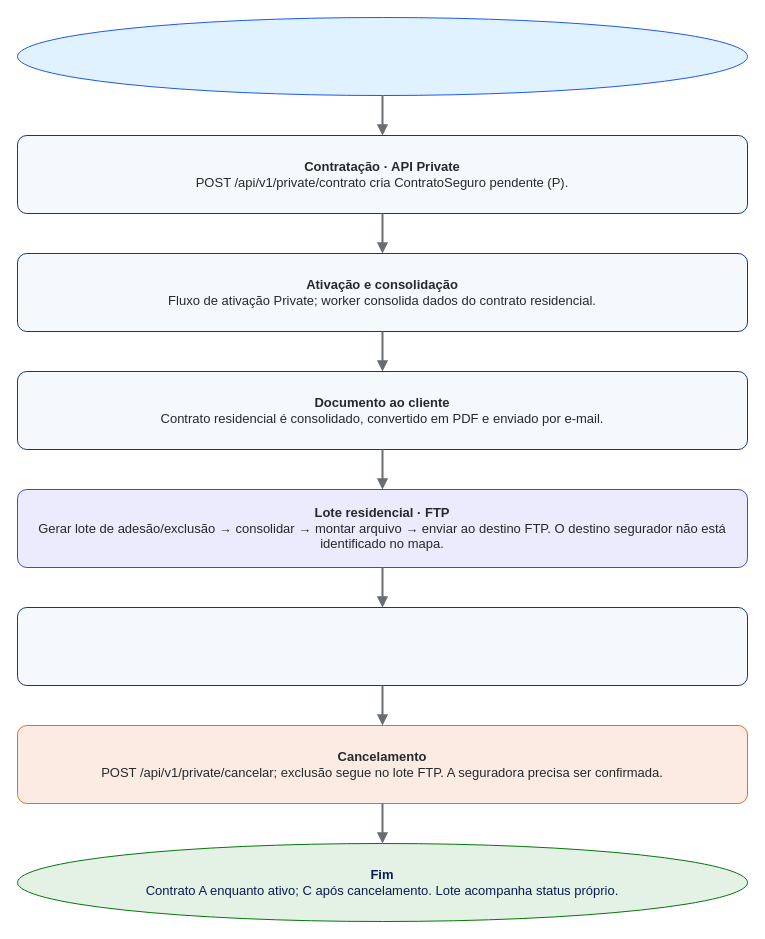
This 765x939 diagram has some shape labels left out. The shapes that lost their labels are listed below. From the top down, each one's centre as x and y in pixels, then its label:
At (382,56): "Início Cliente adere ao seguro pelo canal Senff.".
At (382,646): "Cobrança mensal Fluxo de recorrência Private e lançamento na fatura Senff.".
